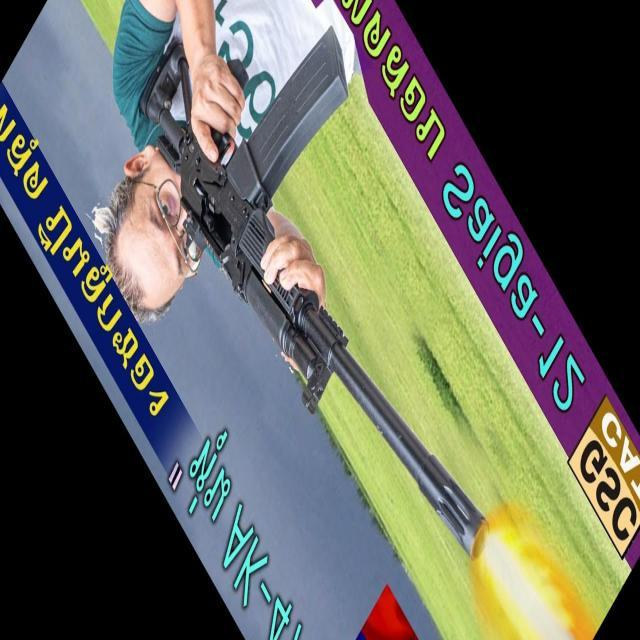weapon: (136, 24, 492, 566)
